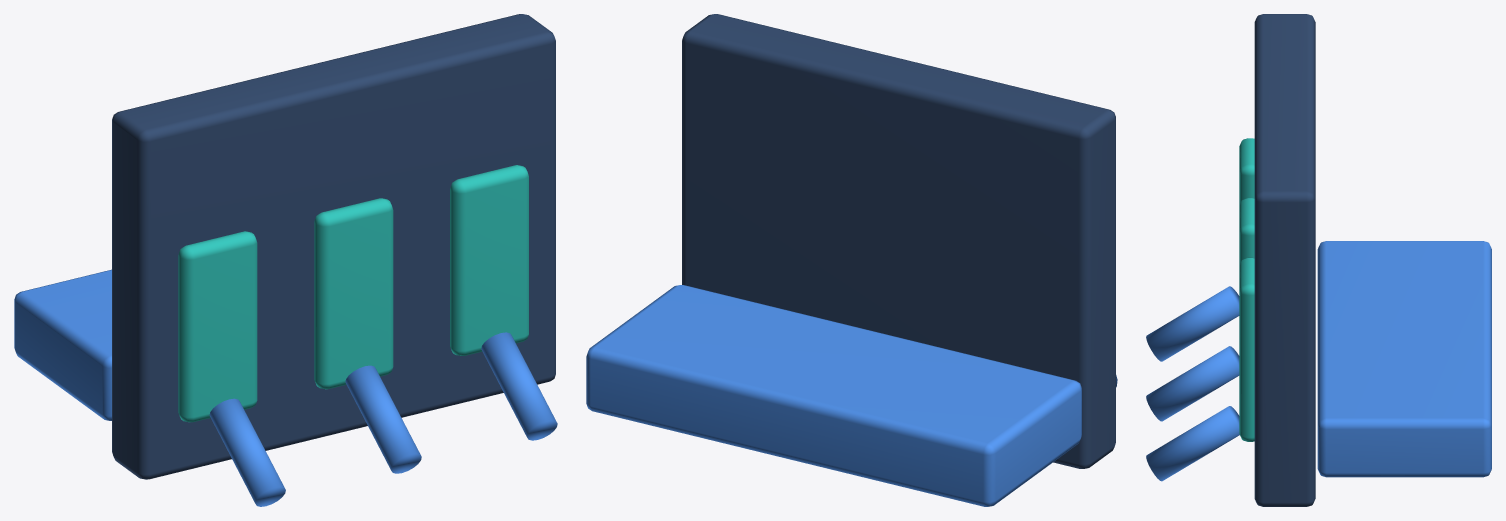
Rendered from hydroelectric-dam-lite.glb.
3 views of the same model, side by side, from view 1: azimuth 30°, elevation 25°; view 2: azimuth 150°, elevation 25°; view 3: azimuth 270°, elevation 25° (orthographic). The views are drawn at different scales.
Visible parts, largest first — view 1: Dam wall; view 2: Dam wall; view 3: Dam wall.
Part boxes in pixels (x1,y1,x2,y2): Dam wall: (14, 14, 557, 506); Dam wall: (586, 14, 1117, 506); Dam wall: (1146, 14, 1491, 506).
Size of the model in its own units: 2 by 1.61 by 1.59.
